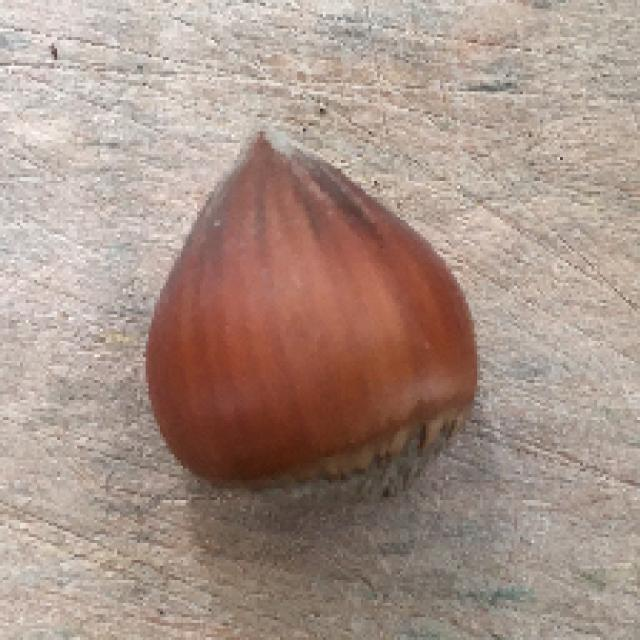qualityHazelnut: (140, 111, 493, 533)
